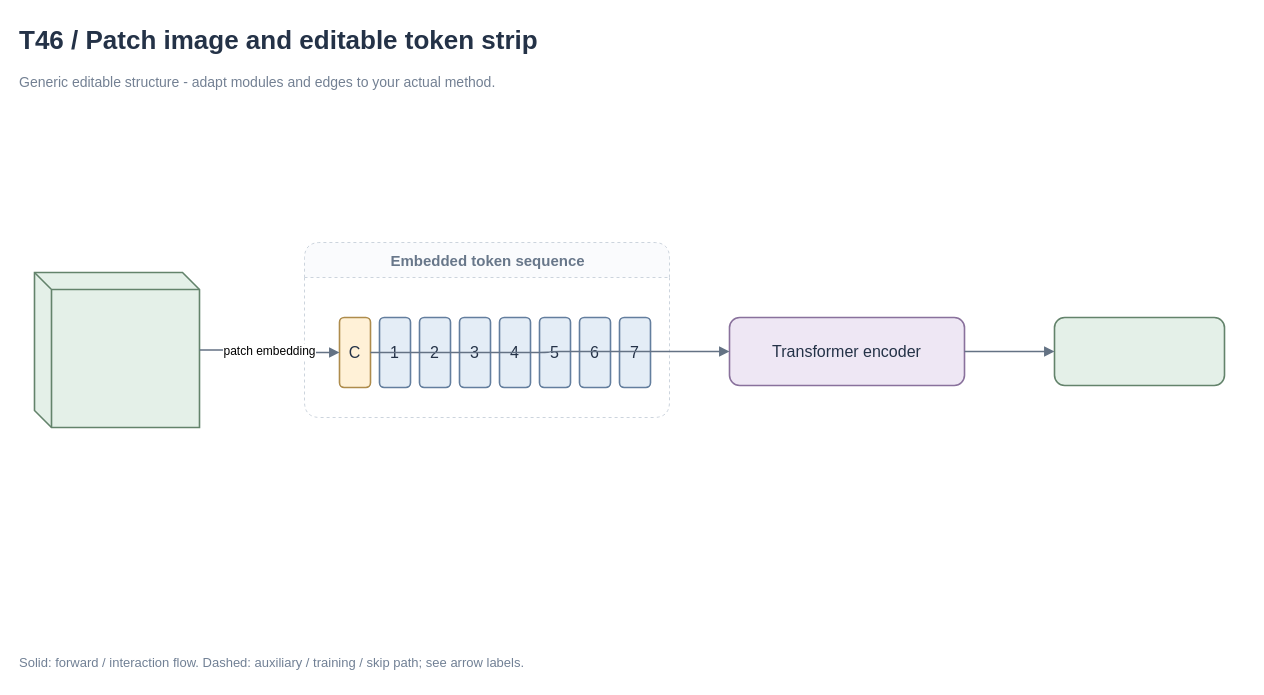
Some shapes in this 1264 by 695 pixel diagram are drawn without their labels. The shapes that lost their labels are listed below. From the top down, each one's centre as x and y in pixels, then its label:
pixel 116 349: Image patches
pixel 1139 351: Prediction
